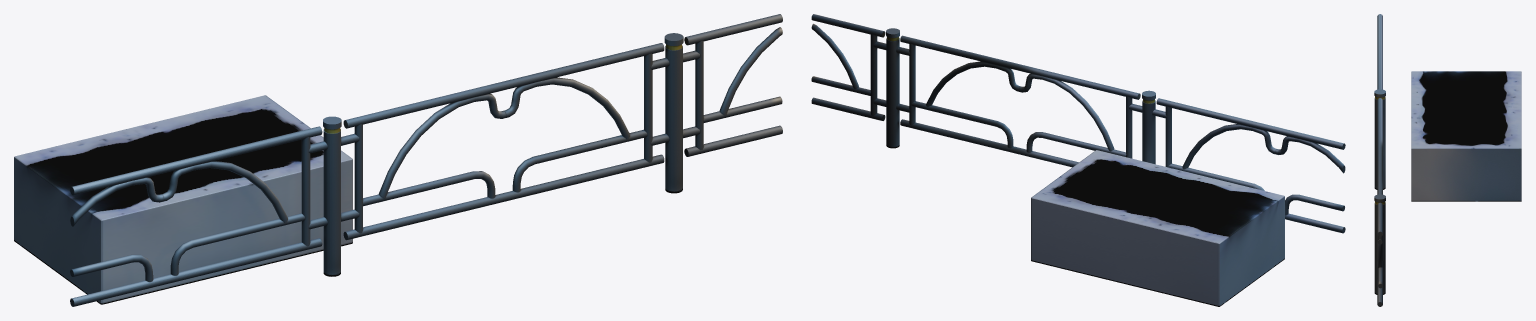
File: Guard.glb
The picture shows the model from 3 angles, left to right: view 1: azimuth 30°, elevation 25°; view 2: azimuth 150°, elevation 25°; view 3: azimuth 270°, elevation 25°; orthographic projection. The views are drawn at different scales.
Visible parts, largest first — view 1: Cube.011_Baked, Plane_Baked; view 2: Cube.011_Baked, Plane_Baked; view 3: Cube.011_Baked, Plane_Baked.
Part boxes in pixels (x1,y1,x2,y2): Cube.011_Baked: (14,95,352,304); Plane_Baked: (70,14,782,306); Cube.011_Baked: (1031,150,1284,306); Plane_Baked: (811,14,1345,233); Cube.011_Baked: (1411,71,1521,201); Plane_Baked: (1374,14,1385,306).
Size of the model in its own units: 5.18 by 1.07 by 1.48.
2 materials, 2 textured.
